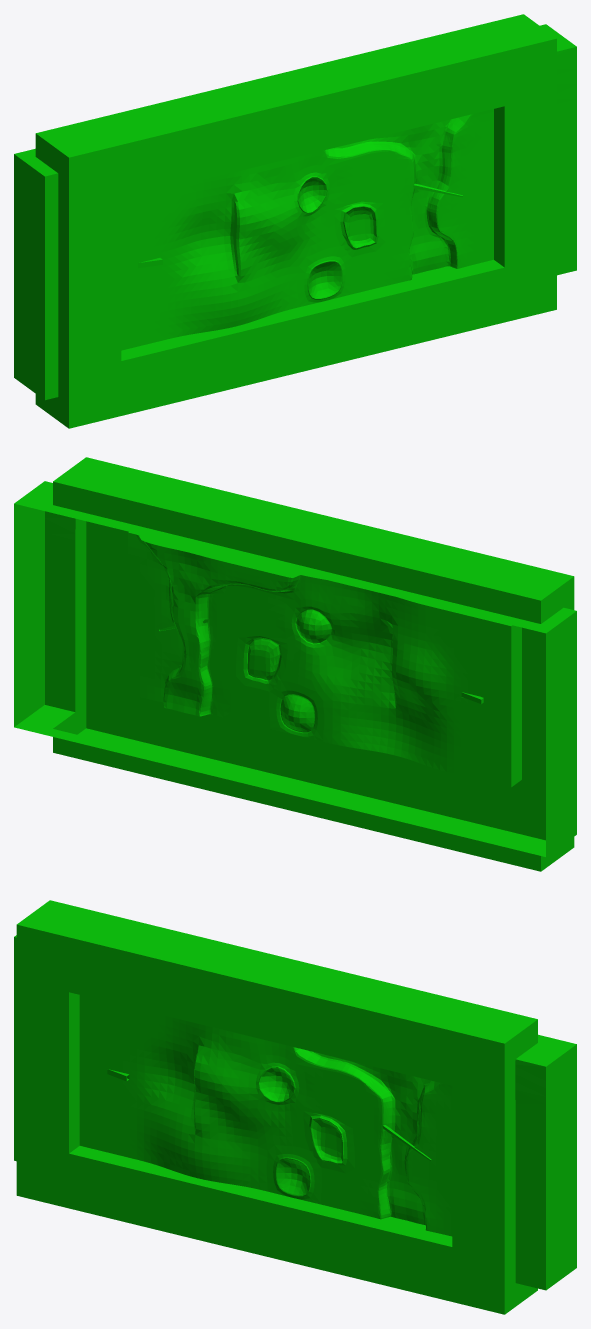
File: woods_0000_col.obj
3 renders of one model, top to bottom at view 1: azimuth 30°, elevation 25°; view 2: azimuth 150°, elevation 25°; view 3: azimuth 330°, elevation 25°, orthographic.
Parts seen in each view (by area): view 1: level_0-1.004_Cube.2542; view 2: level_0-1.004_Cube.2542; view 3: level_0-1.004_Cube.2542.
Part boxes in pixels (x1,y1,x2,y2): level_0-1.004_Cube.2542: (14,14,576,428); level_0-1.004_Cube.2542: (14,457,576,871); level_0-1.004_Cube.2542: (14,900,576,1314).
Bounding box in the file's own units: 3982 × 1939 × 539.
